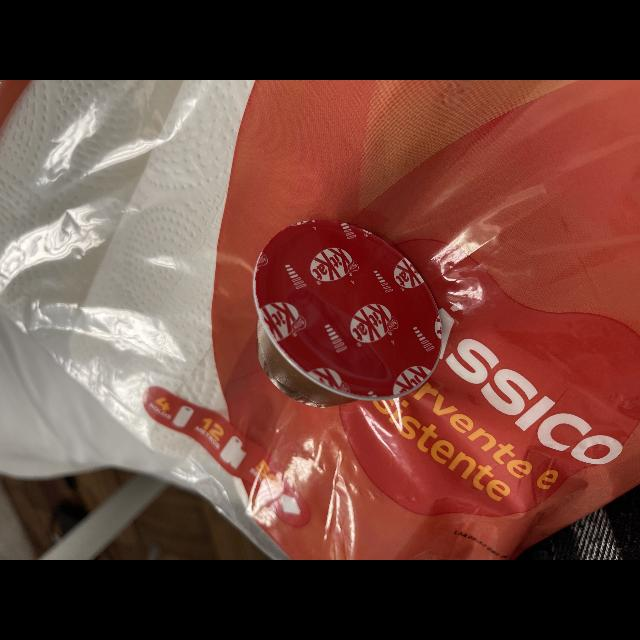intact_capsule: (217, 212, 468, 422)
